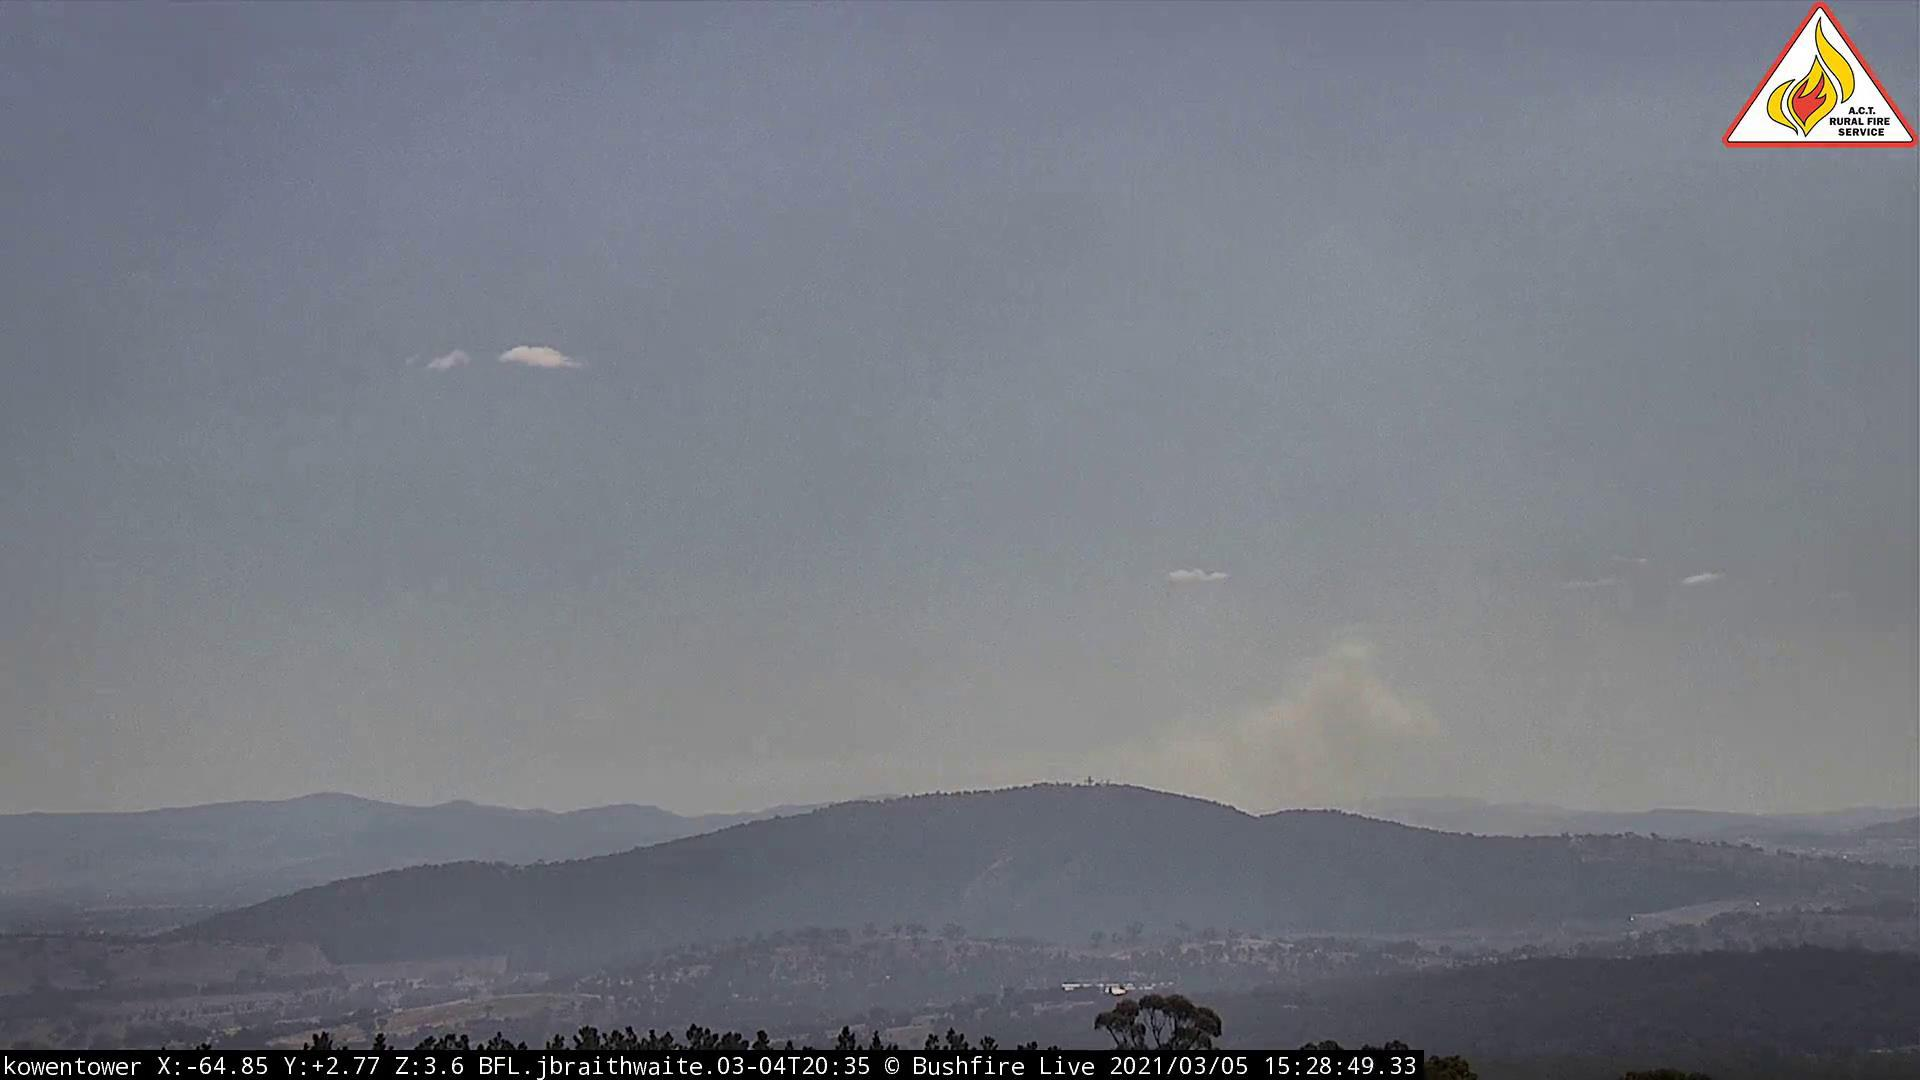instance_salient_object: (1022, 596, 1519, 841)
